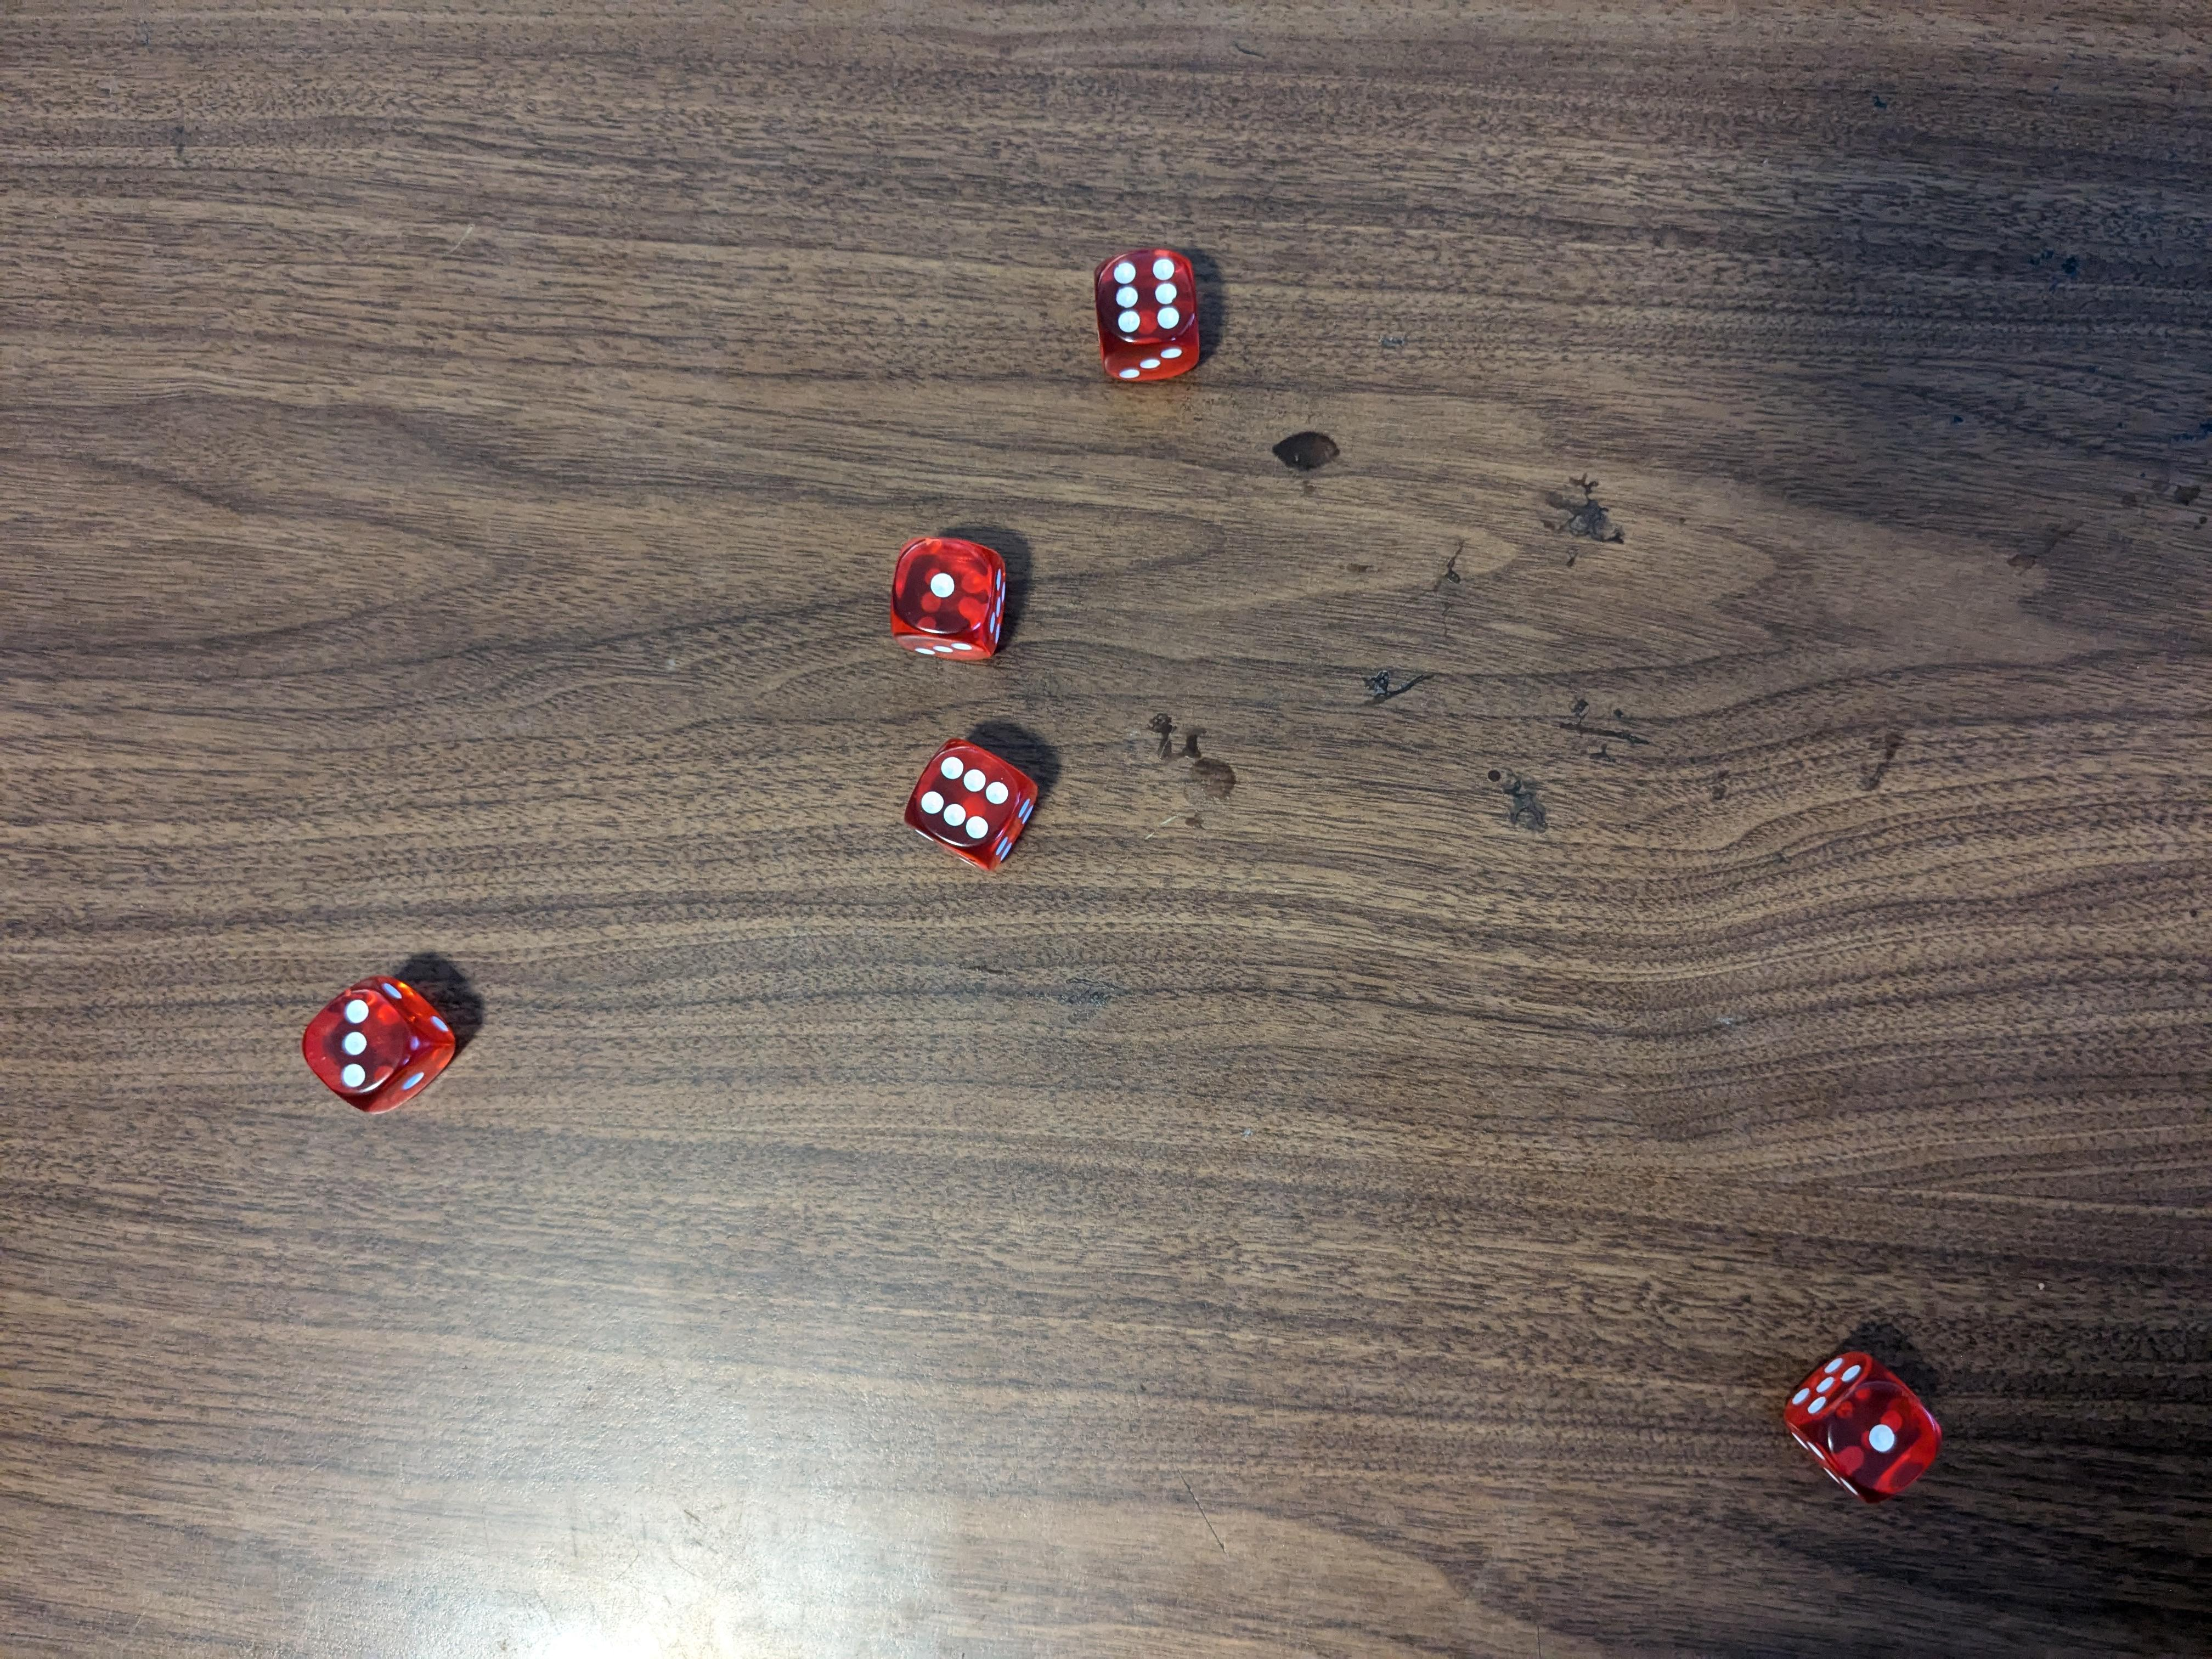one: (1784, 1349, 1946, 1509), (887, 533, 1005, 664)
six: (907, 728, 1049, 871), (1094, 246, 1200, 387)
three: (300, 974, 455, 1115)
